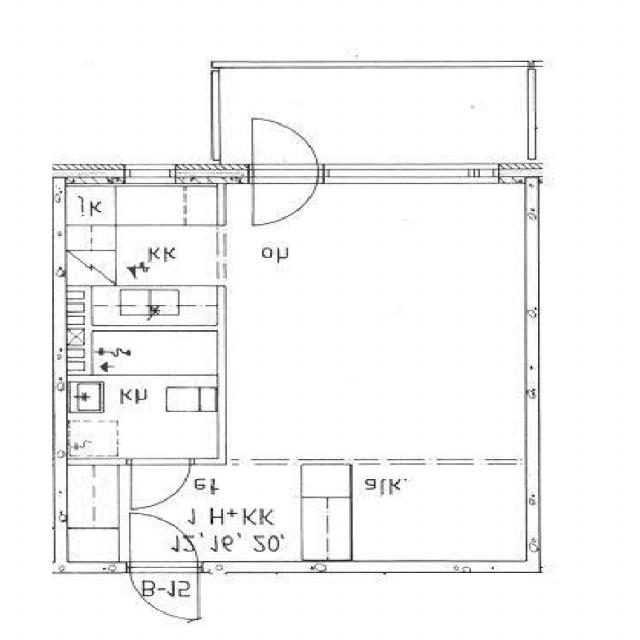door: (252, 164, 318, 233), (252, 114, 318, 182), (130, 508, 198, 572), (130, 561, 198, 624), (132, 457, 190, 508)
